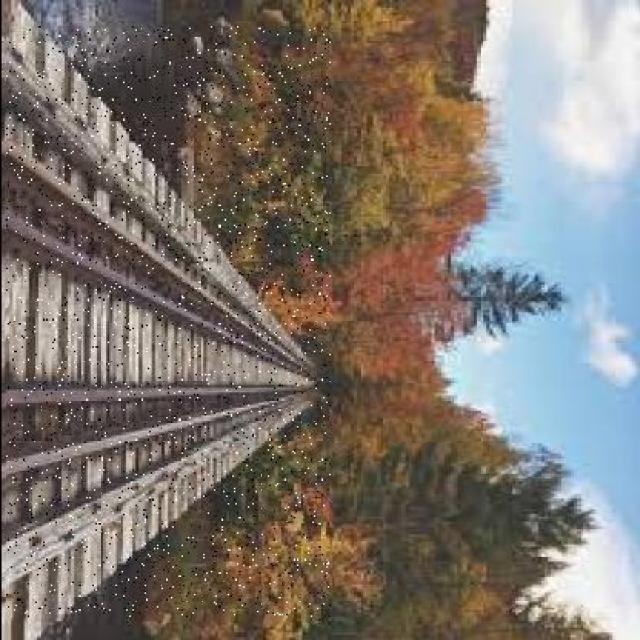rail: (6, 28, 329, 618)
